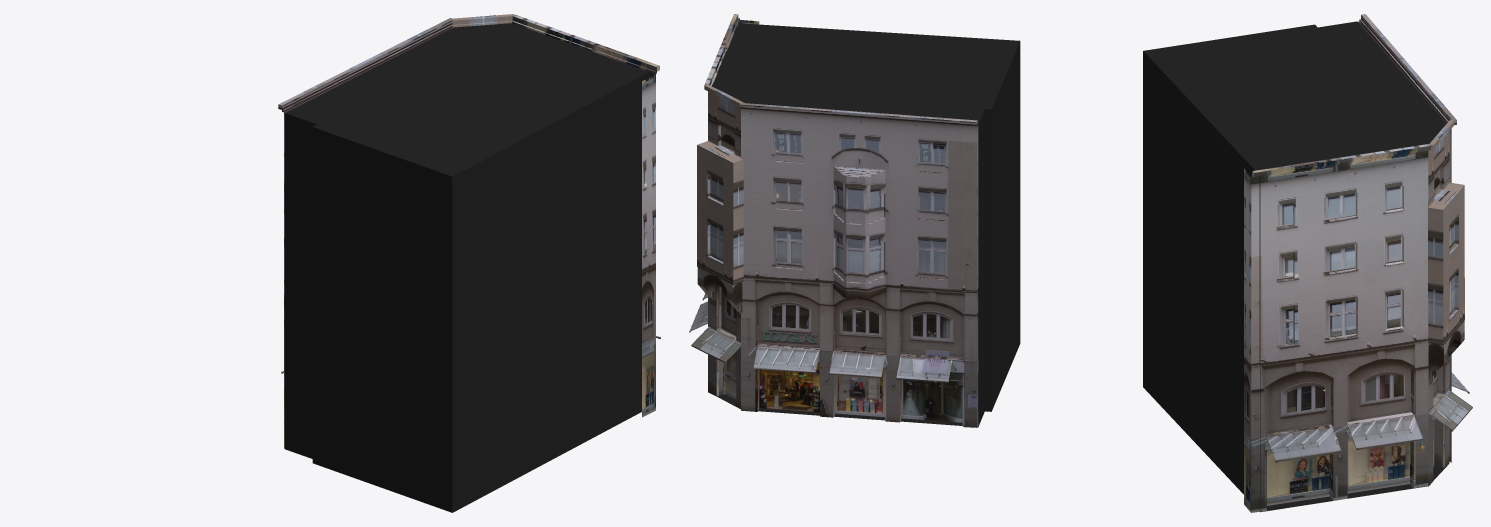
File: B_Werth_42.FBX
The picture shows the model from 3 angles, left to right: view 1: azimuth 30°, elevation 25°; view 2: azimuth 150°, elevation 25°; view 3: azimuth 270°, elevation 25°; orthographic projection. The views are drawn at different scales.
Parts seen in each view (by area): view 1: B_Werth_42, B_Werth_42_side, B_Werth_42_front; view 2: B_Werth_42_front, B_Werth_42, B_Werth_42_corner_upp, B_Werth_42_balkon_under_dif, B_Werth_42_side; view 3: B_Werth_42, B_Werth_42_side, B_Werth_42_corner_upp, B_Werth_42_balkon_under_dif, B_Werth_42_front.
Boxes of the visible parts, x1,y1,x2,y2 form: B_Werth_42: (285,23,648,512); B_Werth_42_side: (512,14,660,417); B_Werth_42_front: (278,18,453,448); B_Werth_42_front: (739,103,978,427); B_Werth_42: (712,23,1020,426); B_Werth_42_corner_upp: (697,84,743,284); B_Werth_42_balkon_under_dif: (691,267,742,408); B_Werth_42_side: (689,14,759,394); B_Werth_42: (1143,21,1449,512); B_Werth_42_side: (1244,144,1430,512); B_Werth_42_corner_upp: (1428,119,1464,345); B_Werth_42_balkon_under_dif: (1428,321,1472,486); B_Werth_42_front: (1358,14,1469,462).
Bounding box in the file's own units: 3230 × 1935 × 1708.
Materials: 5 (4 with a texture image).
